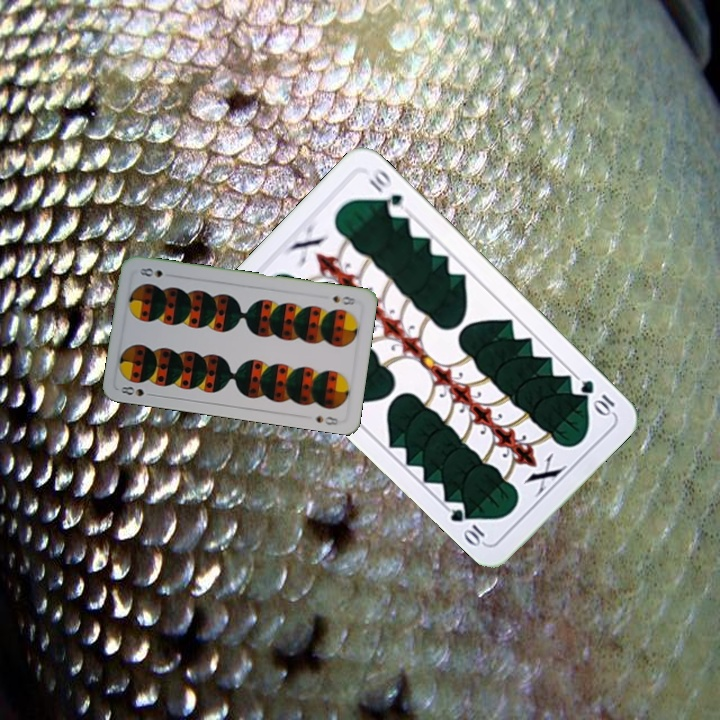G10: (576, 375, 618, 419)
S8: (117, 382, 157, 399), (328, 291, 358, 308)
